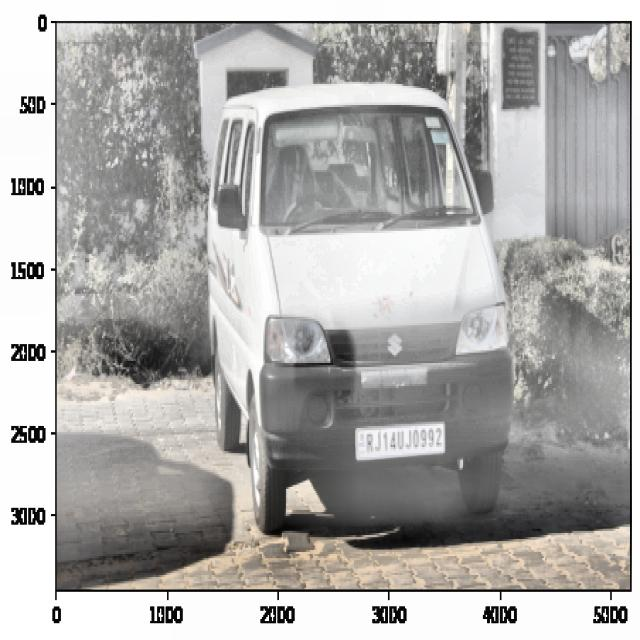license_plate: (364, 424, 444, 456)
